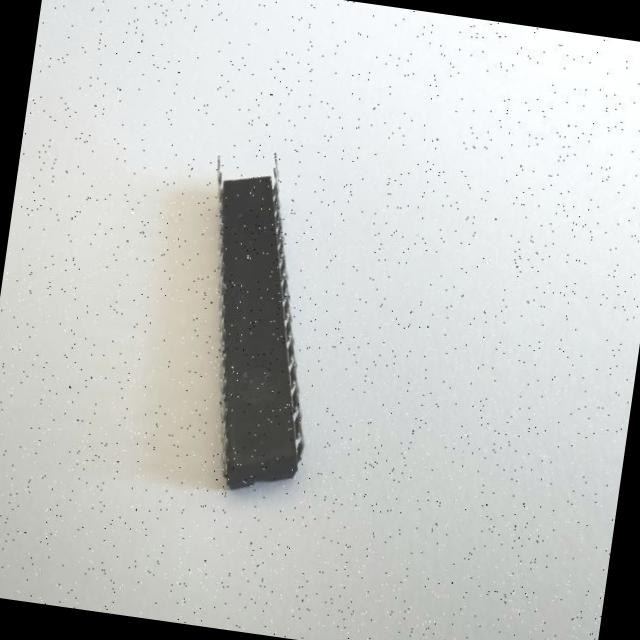atmega: (167, 143, 346, 501)
